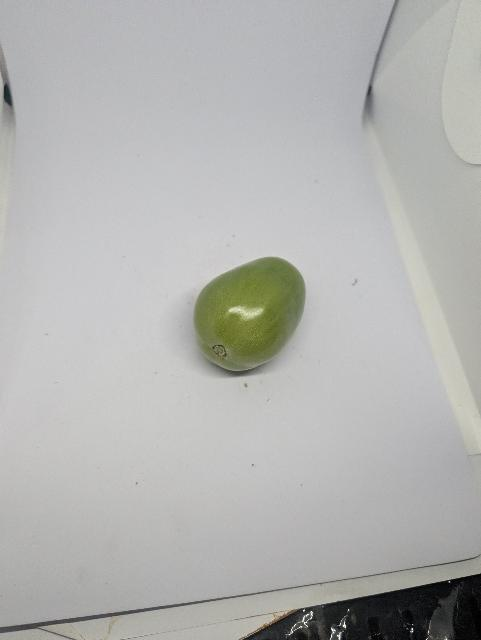green: (163, 231, 321, 399)
